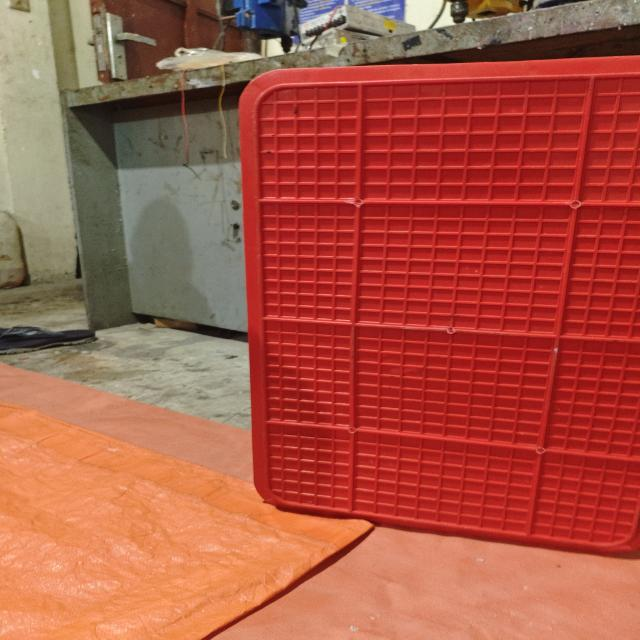red plastic box: (238, 55, 640, 557)
